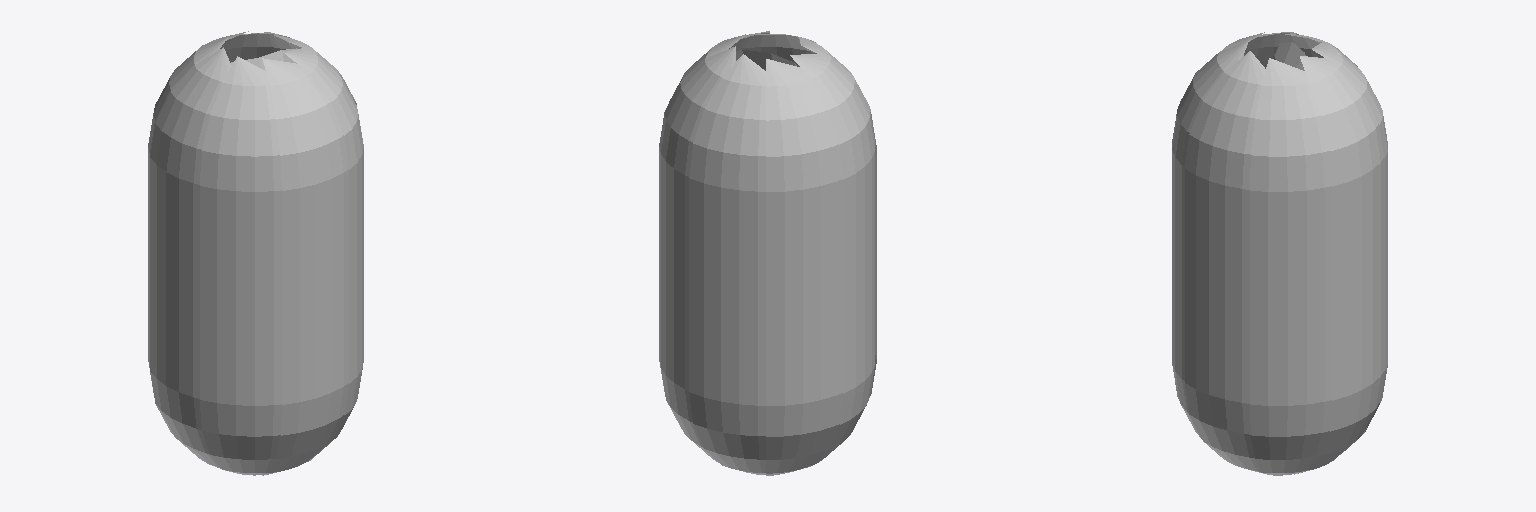
Rendered from FlowerTopModel_03_seq_0010.obj.
The picture shows the model from 3 angles: view 1: azimuth 30°, elevation 25°; view 2: azimuth 150°, elevation 25°; view 3: azimuth 270°, elevation 25°; orthographic projection.
Visible parts, largest first — view 1: FlowerTopModel_03; view 2: FlowerTopModel_03; view 3: FlowerTopModel_03.
Part boxes in pixels (left/top/right/bottom): FlowerTopModel_03: left=148, top=31, right=363, bottom=475; FlowerTopModel_03: left=659, top=31, right=876, bottom=475; FlowerTopModel_03: left=1172, top=32, right=1387, bottom=475.
Bounding box in the file's own units: 160 × 345 × 160.